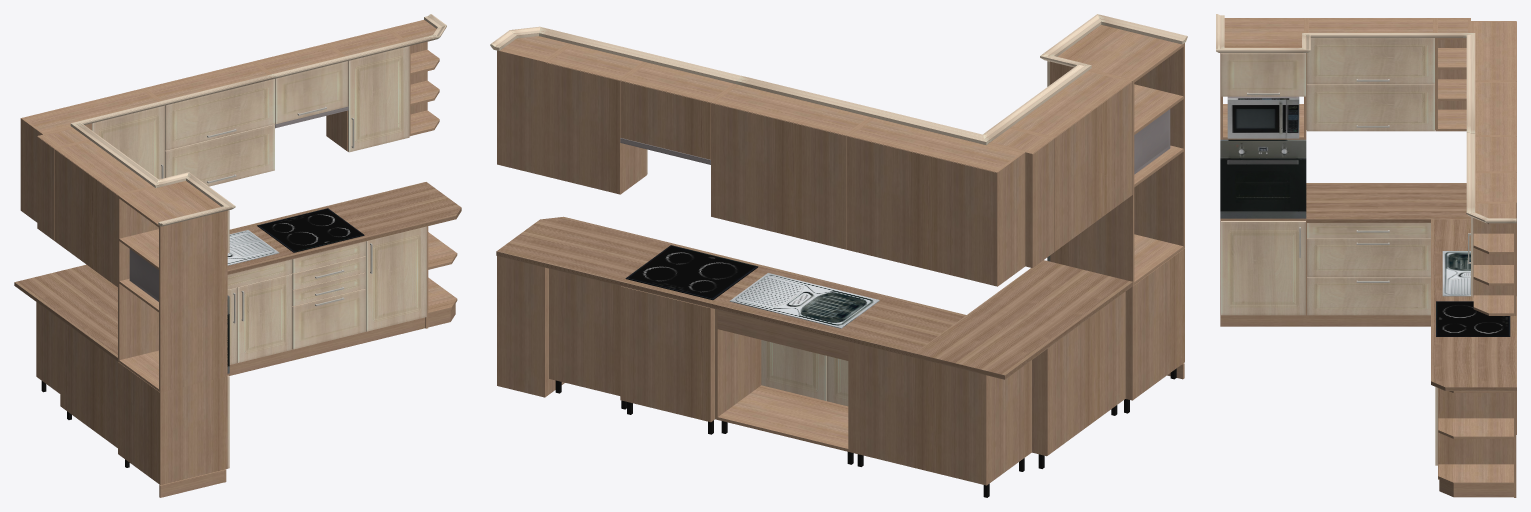
The model's file is Kitchen cabinet 1.obj.
The picture shows the model from 3 angles, left to right: view 1: azimuth 30°, elevation 25°; view 2: azimuth 150°, elevation 25°; view 3: azimuth 270°, elevation 25°; orthographic projection. The views are drawn at different scales.
Bounding box in the file's own units: 3.41 × 2.15 × 2.1.
Materials: 32 (32 with a texture image).
